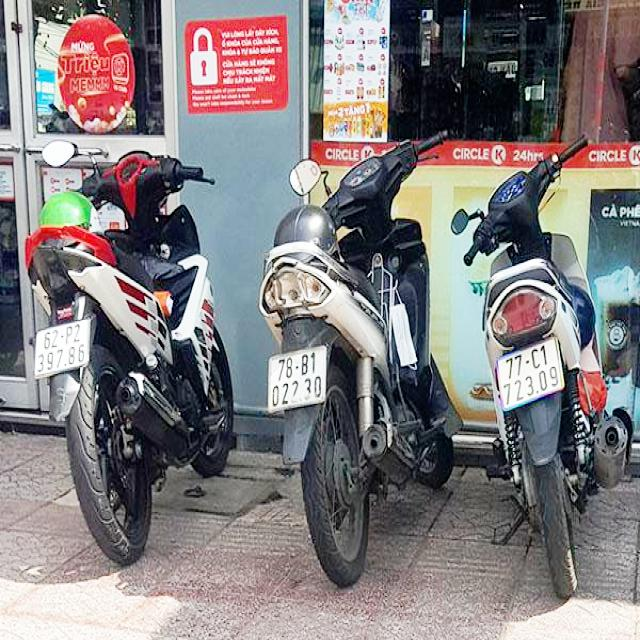license_plate: (496, 337, 566, 412), (269, 348, 325, 411), (36, 320, 89, 378)
